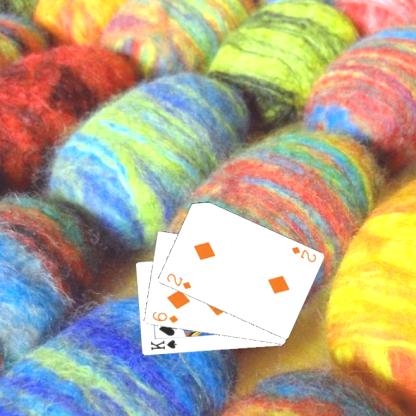2D: (288, 244, 318, 264), (163, 270, 192, 290)
6D: (149, 308, 180, 324)
KS: (148, 338, 178, 352)
